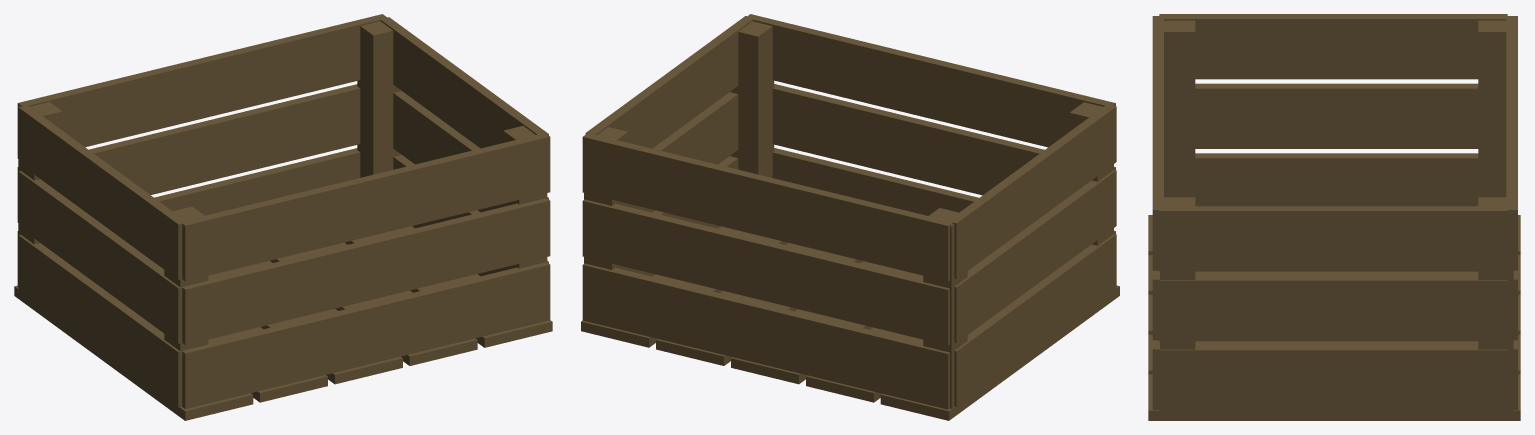
The model's file is CaisseEnBois.glb.
3 renders of one model, left to right at view 1: azimuth 30°, elevation 25°; view 2: azimuth 150°, elevation 25°; view 3: azimuth 270°, elevation 25°, orthographic. The views are drawn at different scales.
Parts seen in each view (by area): view 1: Cube; view 2: Cube; view 3: Cube.
Part boxes in pixels (bbox=[...]): Cube: bbox=[14, 14, 552, 420]; Cube: bbox=[581, 14, 1119, 420]; Cube: bbox=[1148, 14, 1520, 420].
Size of the model in its own units: 2.14 by 1.06 by 1.7.
